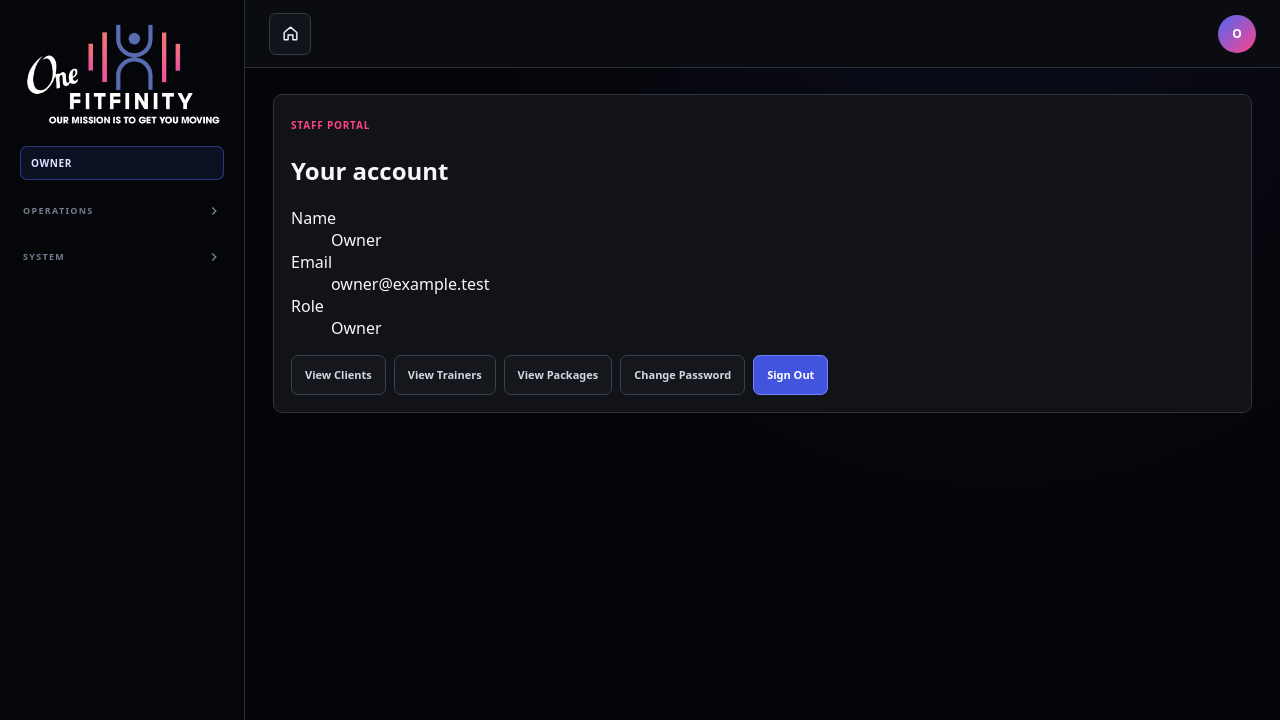
Test: shows real client/package details through existing pages and preserves Back navigation
This screenshot has width=1280, height=720.
Expected: the heading "Your account" is shown, [291,154,448,187]
Click the button "View Clients". click: (338, 375)
box: [291,355,386,395]
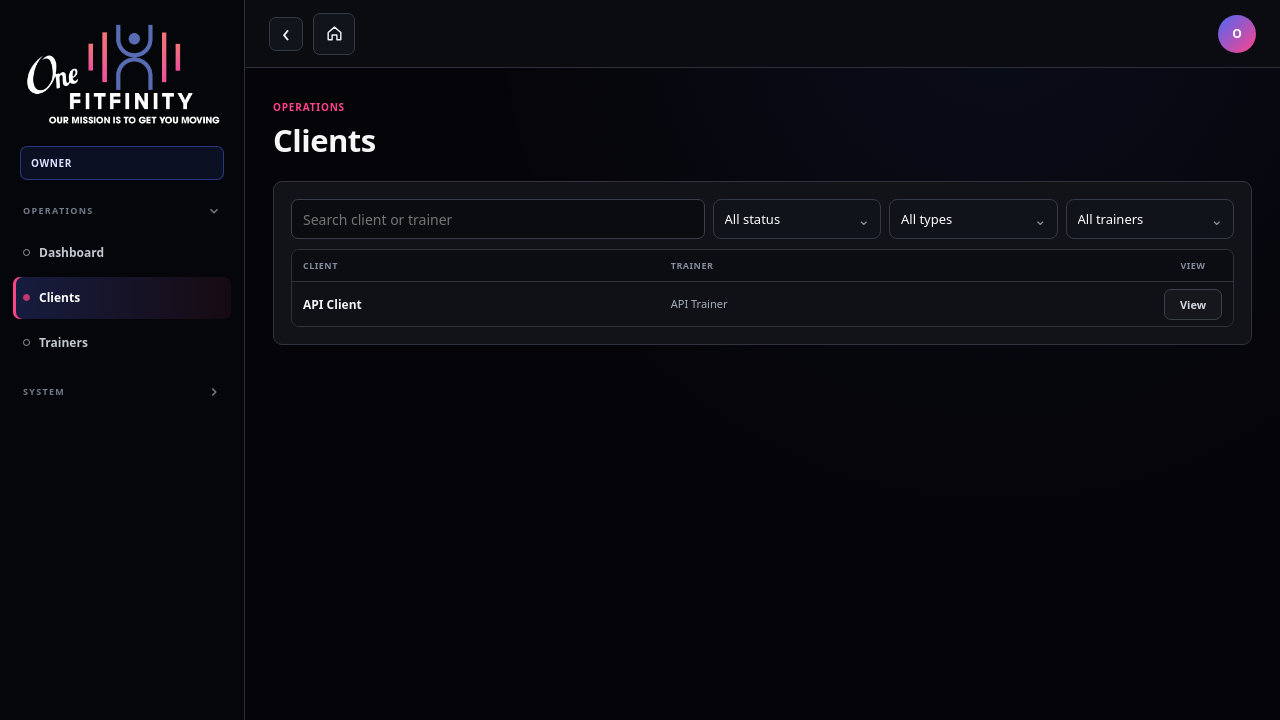
Expected: the heading "Clients" is shown, [273,119,376,161]
Click the button with aria-label "View API Client". click: (1193, 304)
box: [1164,288,1222,320]
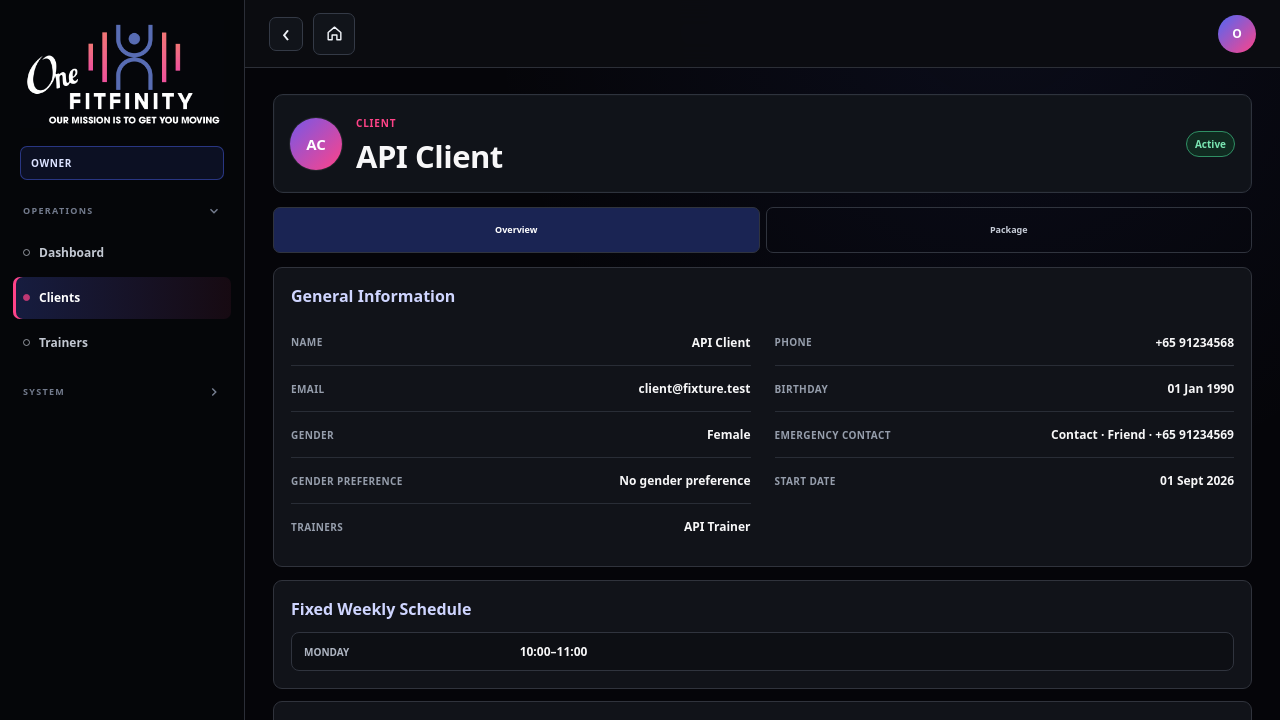
Expected: the heading "General Information" is shown, [291,285,455,307]
Expected: the text "client@fixture.test" is shown, [638,380,750,397]
Click the button "Package". click: (1009, 230)
box: [766,207,1252,253]
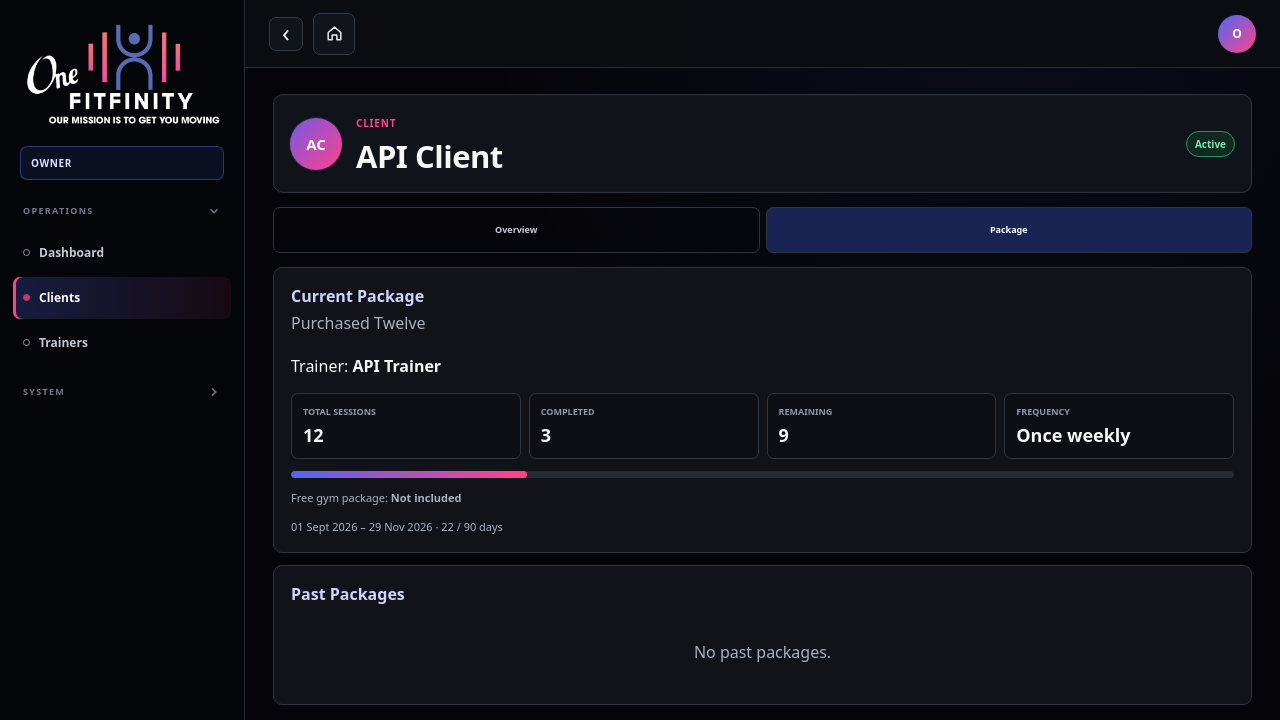
Expected: the text "Purchased Twelve" is shown, [291,312,426,334]
Expected: the element named "25% package used" is shown, [291,471,1234,478]
Click the button named "Back". click: (286, 34)
box: [269,16,303,50]
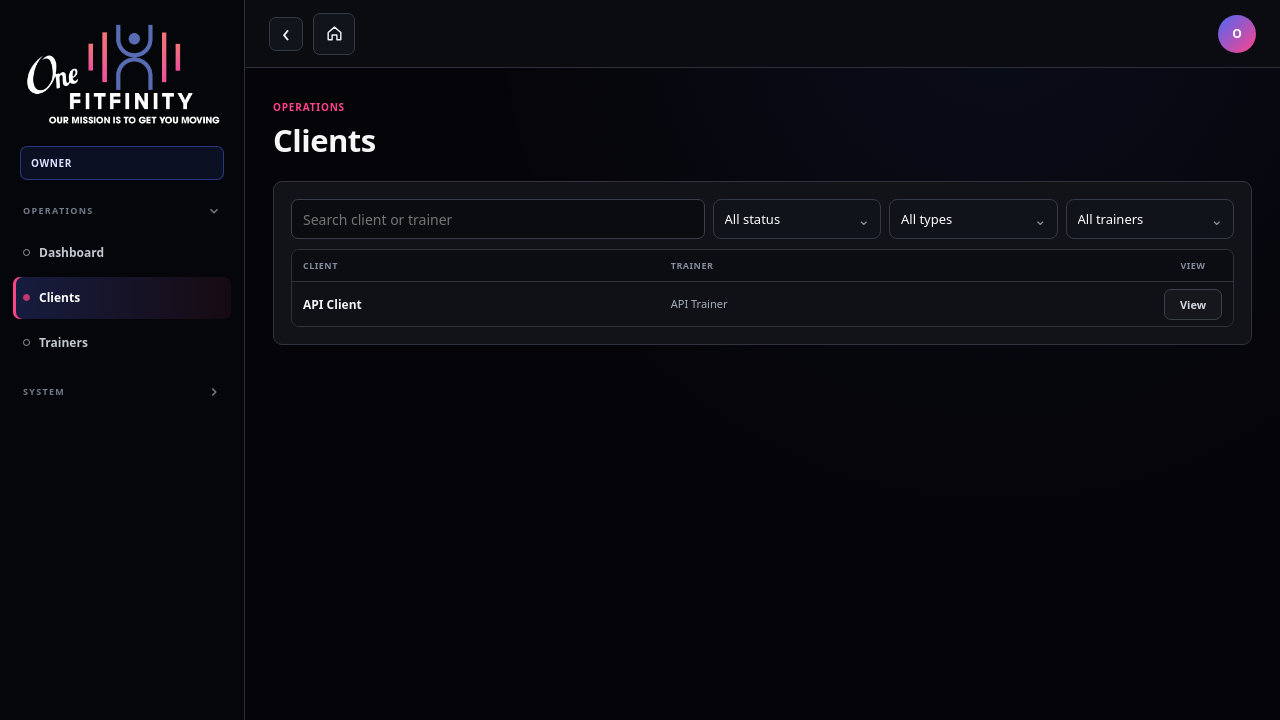
Expected: the heading "Clients" is shown, [273,119,376,161]
